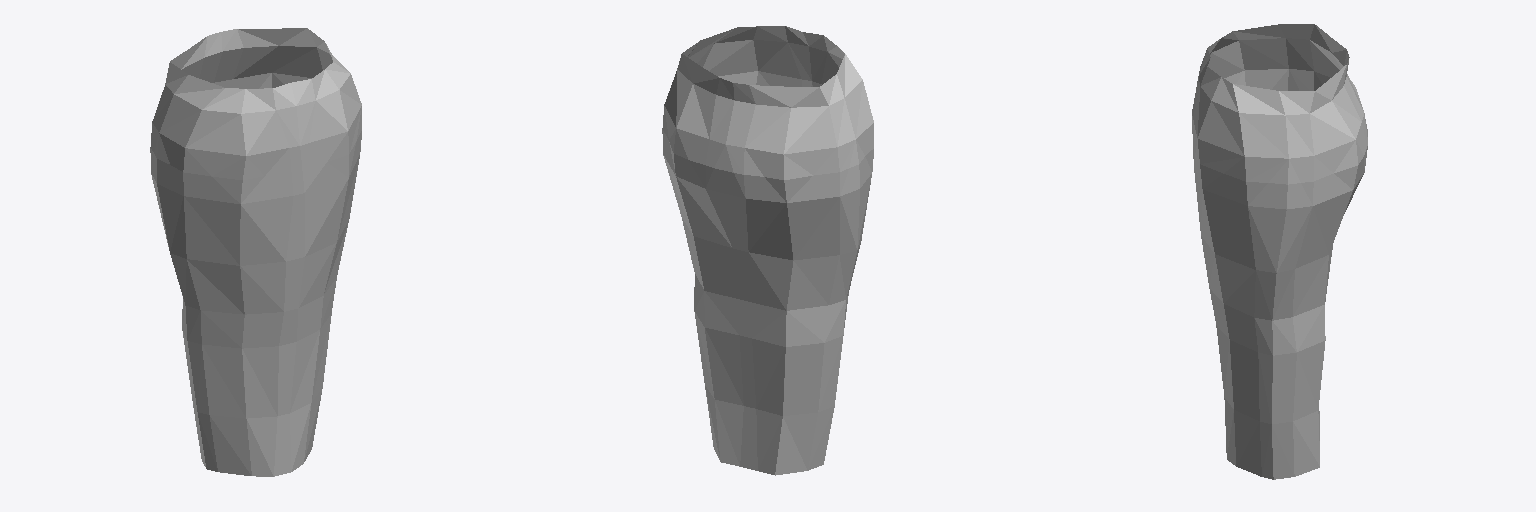
Rendered from avatar_skirt-skirt_chubby.obj.
3 views of the same model, side by side, from view 1: azimuth 30°, elevation 25°; view 2: azimuth 150°, elevation 25°; view 3: azimuth 270°, elevation 25° (orthographic).
Visible parts, largest first — view 1: g1_avatar_skirt; view 2: g1_avatar_skirt; view 3: g1_avatar_skirt.
Part boxes in pixels (left/top/right/bottom): g1_avatar_skirt: left=150, top=28, right=361, bottom=476; g1_avatar_skirt: left=662, top=26, right=873, bottom=475; g1_avatar_skirt: left=1192, top=24, right=1367, bottom=479.
Bounding box in the file's own units: 0.5648 × 1.12 × 0.4517.